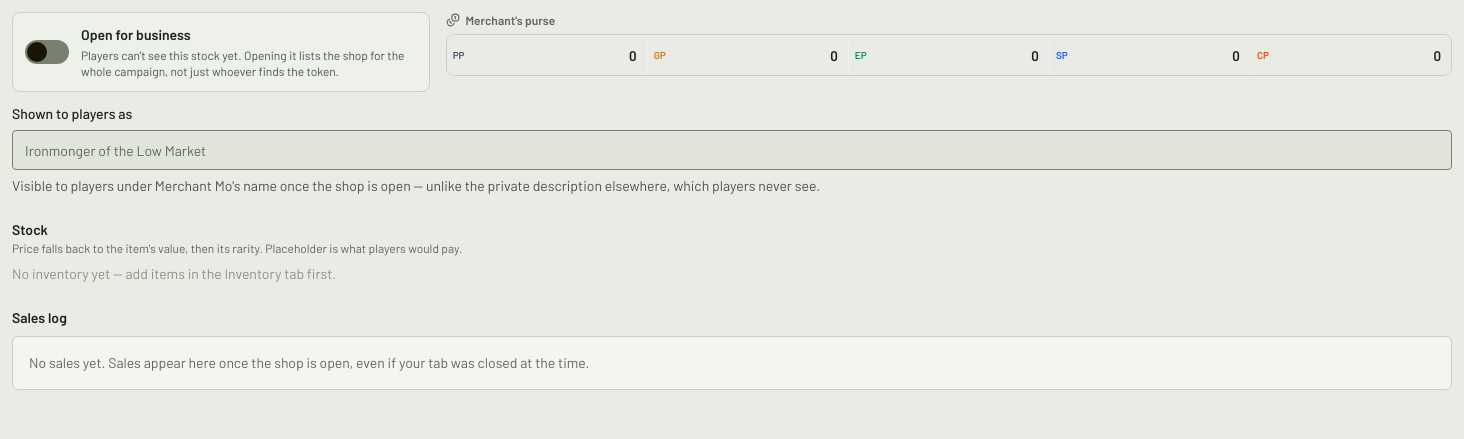
Test: NPCShopTab › publishing the shop › surfaces a rejected fetch (network failure) to the DM too
Step 1. Click the switch named "Open for business" → {"x": 47, "y": 52}, box [25, 40, 69, 64]
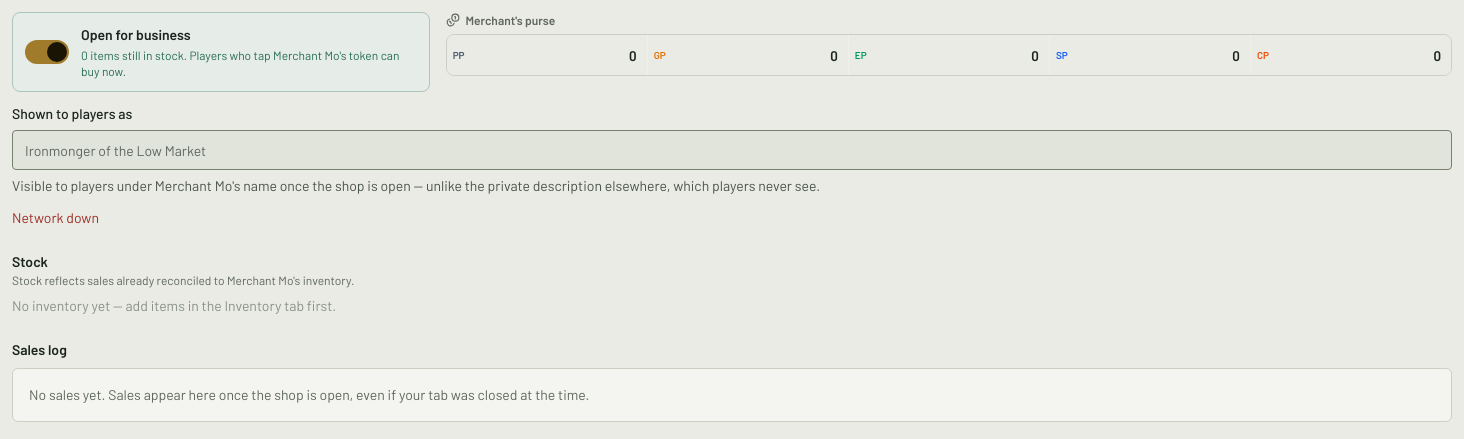
Now the message reads "Network down", box [12, 209, 99, 226]
